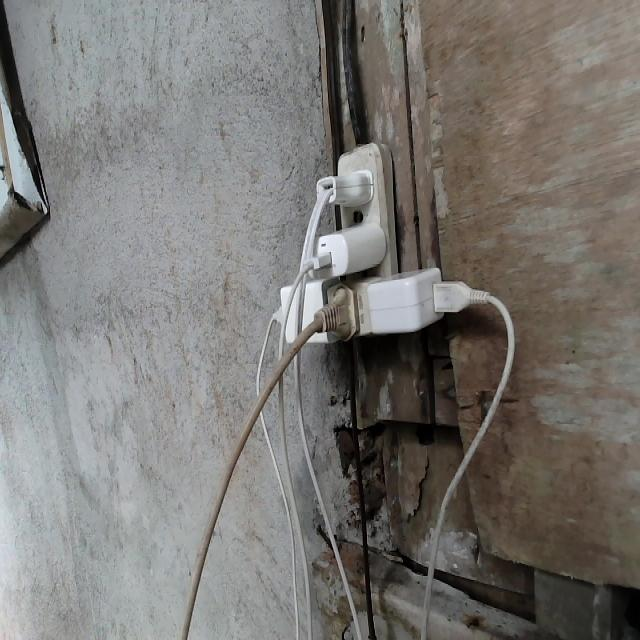-: (272, 140, 456, 344)
